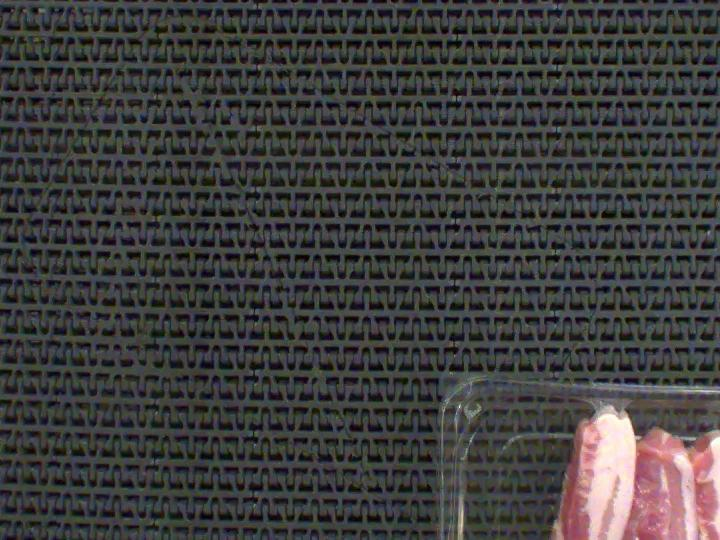packaging-error: (577, 391, 633, 417)
